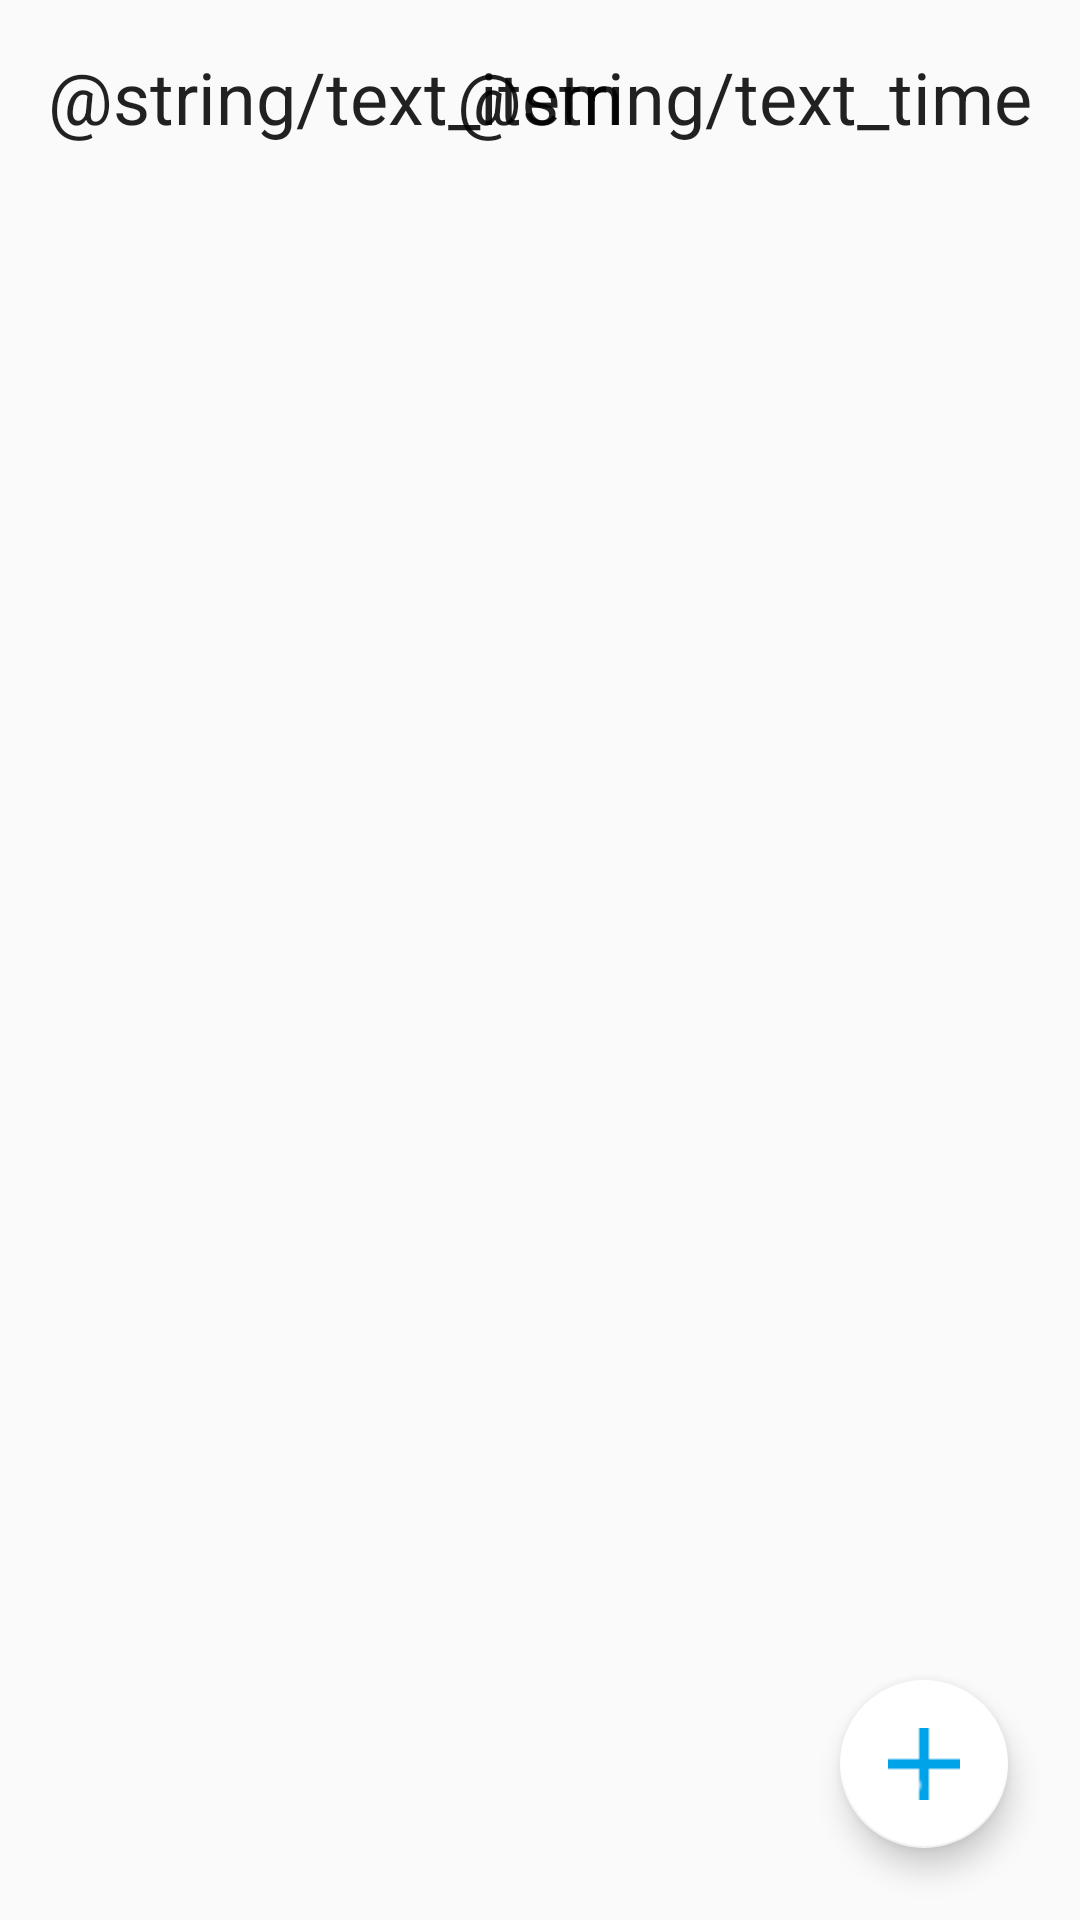

Where icons sit on this 1080×1920 app screen, as [left=x1, top=y1, right=x2, bottom=y2]:
plus: [left=844, top=1728, right=960, bottom=1800]
